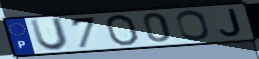0: (142, 11, 174, 44)
7: (69, 16, 100, 49)
J: (218, 7, 244, 38)
O: (104, 13, 141, 47), (175, 9, 213, 42)
U: (28, 16, 71, 52)
